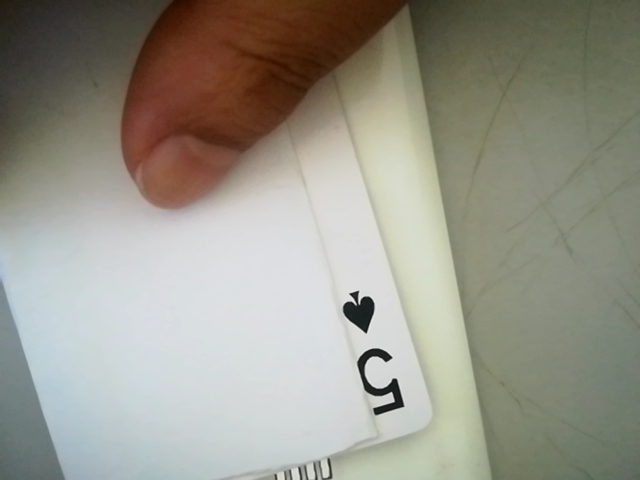ht 5: (328, 285, 432, 426)
